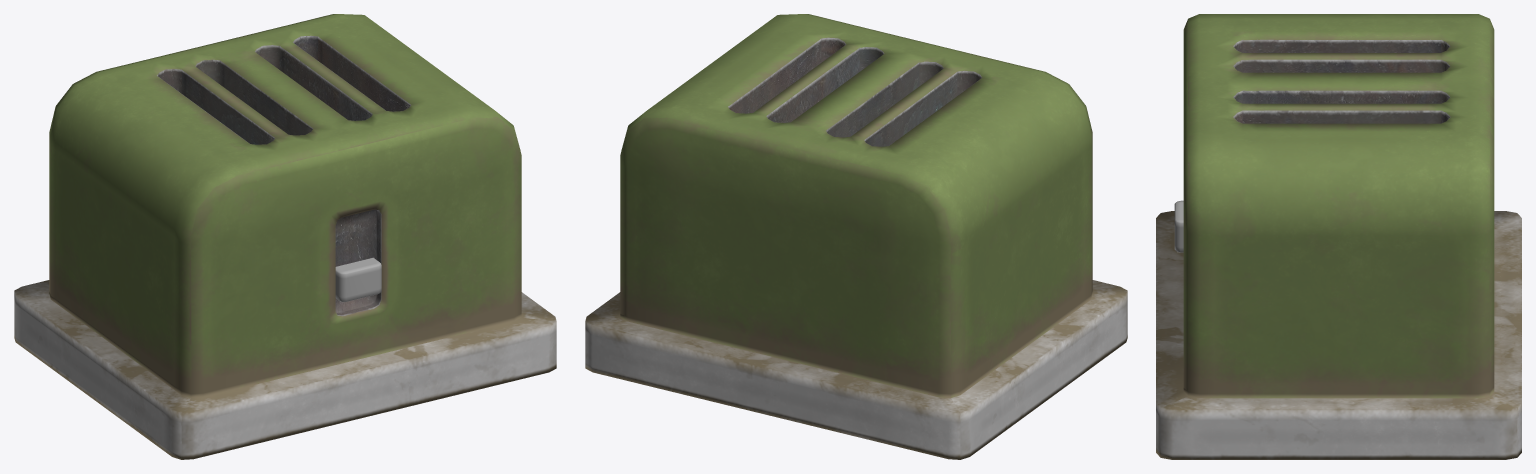
File: classic_toaster_3d_model.glb
The picture shows the model from 3 angles, left to right: view 1: azimuth 30°, elevation 25°; view 2: azimuth 150°, elevation 25°; view 3: azimuth 270°, elevation 25°; orthographic projection. The views are drawn at different scales.
Visible parts, largest first — view 1: Cube, Cube.001; view 2: Cube; view 3: Cube, Cube.001.
Part boxes in pixels (x1,y1,x2,y2): Cube: (14,14,556,459); Cube.001: (335,257,381,302); Cube: (585,14,1127,459); Cube: (1156,14,1521,459); Cube.001: (1174,200,1183,252).
Size of the model in its own units: 4 by 2.61 by 3.1.
2 materials, 1 textured.
